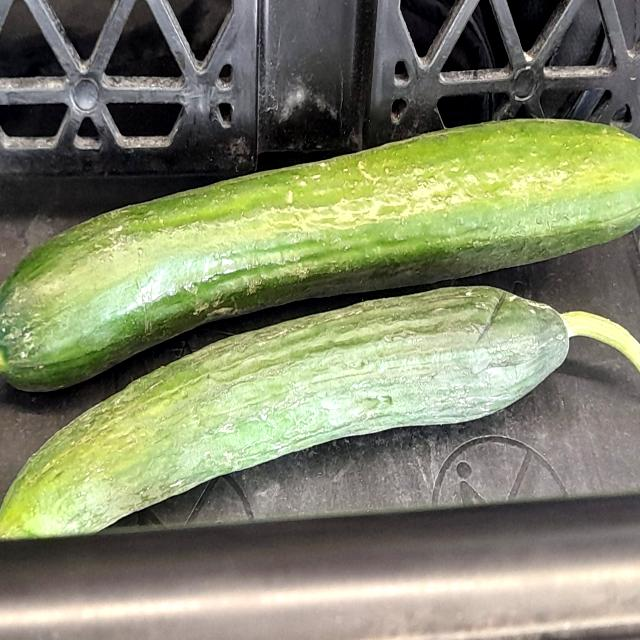cucumber: (0, 111, 640, 394), (0, 283, 634, 545)
